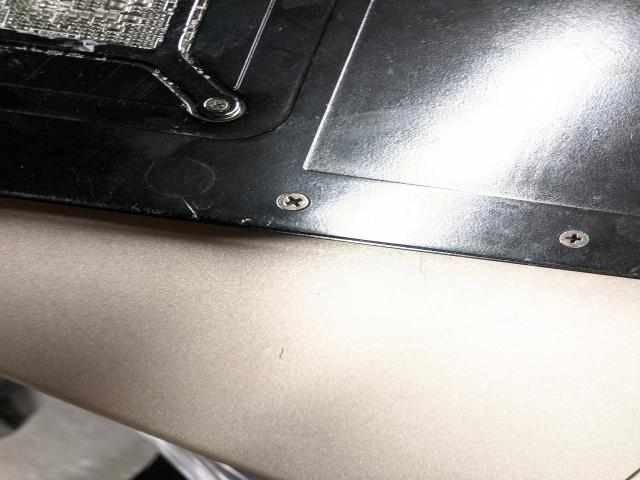CRS: (559, 228, 590, 250), (277, 193, 310, 211), (206, 99, 228, 111)
